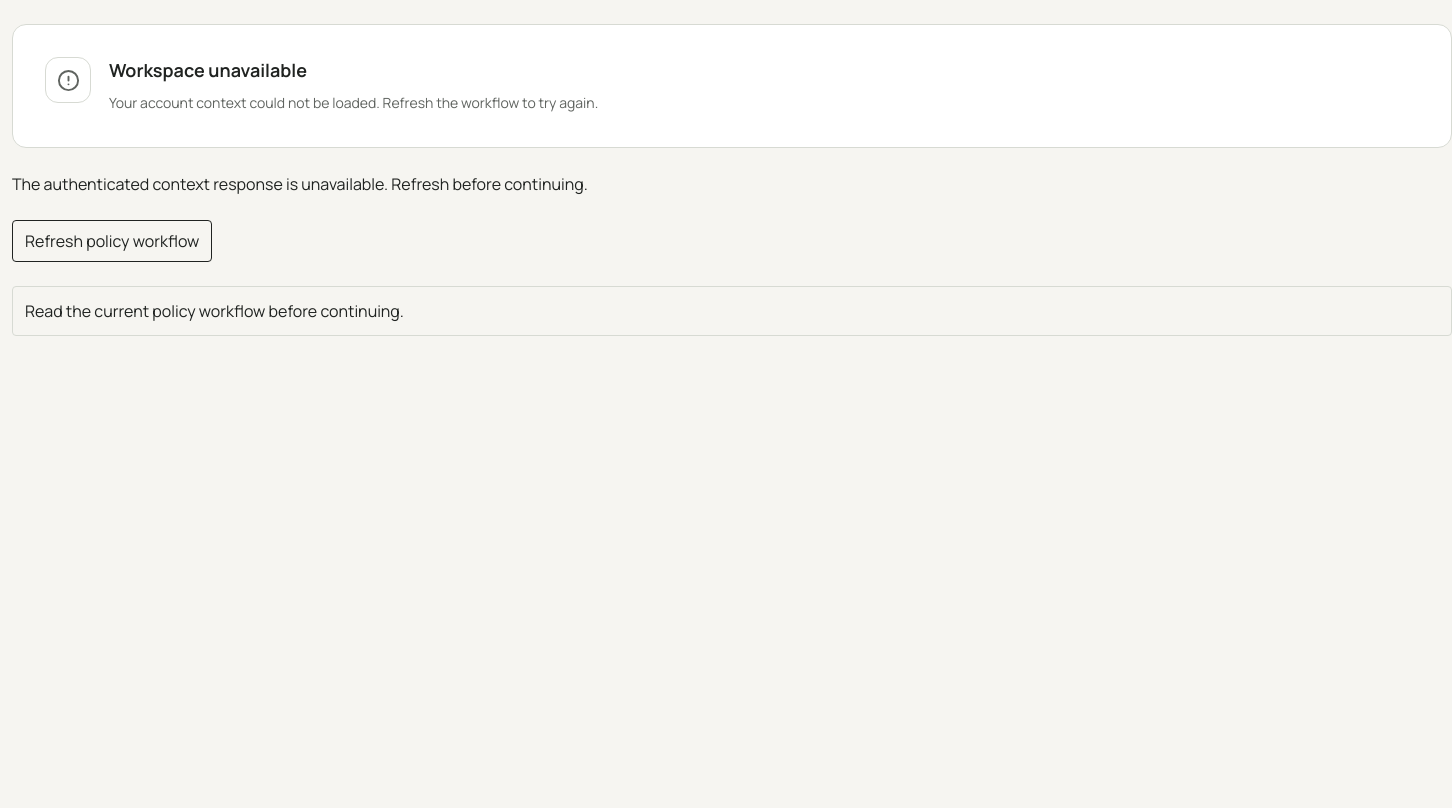
Scenario: treats malformed session as unknown and retries with GET without deleting original review: null
Expected: the message "The authenticated context response is unavailable. Refresh before continuing." is shown, [12, 173, 588, 195]
Click the button "Refresh policy workflow".
click(112, 241)  # box [12, 220, 212, 262]
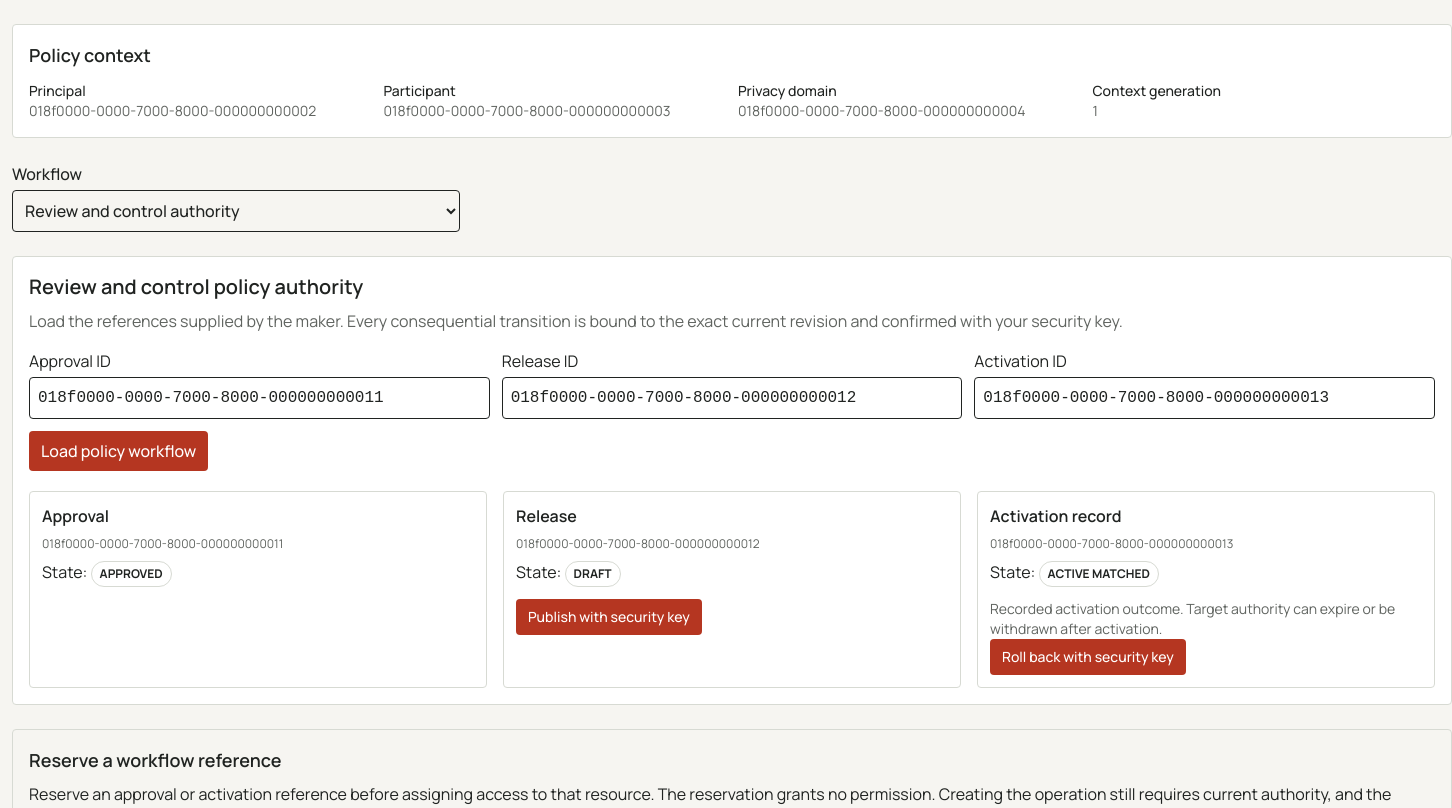
Now the element named "Current policy context" is shown, box [12, 24, 1451, 138]
